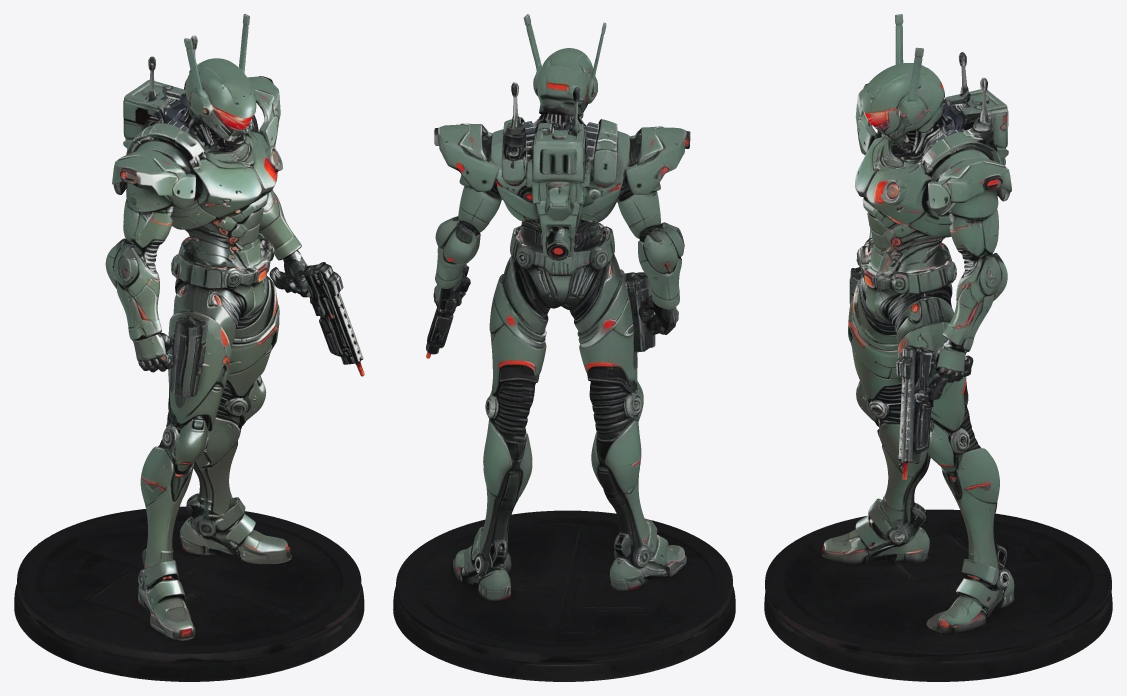
File: 螳螂机器人.glb
The picture shows the model from 3 angles, left to right: view 1: azimuth 30°, elevation 25°; view 2: azimuth 150°, elevation 25°; view 3: azimuth 270°, elevation 25°; orthographic projection. The views are drawn at different scales.
Bounding box in the file's own units: 1.05 × 1.9 × 1.03.
Materials: 1 (1 with a texture image).
